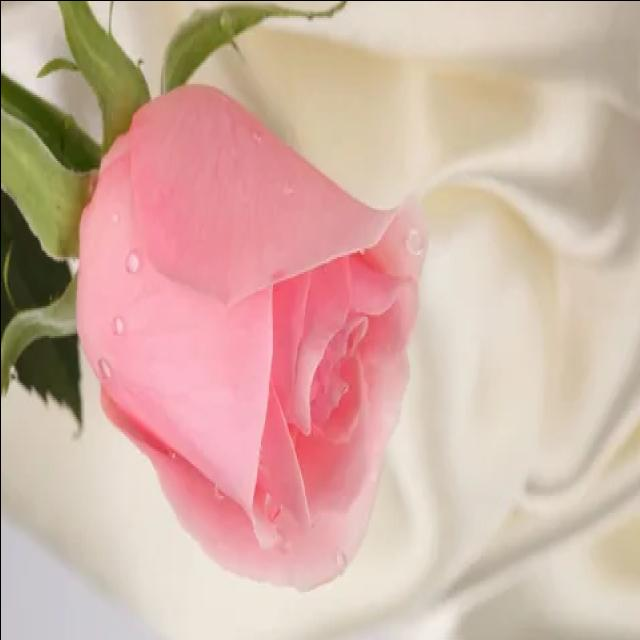rose: (51, 58, 424, 607)
